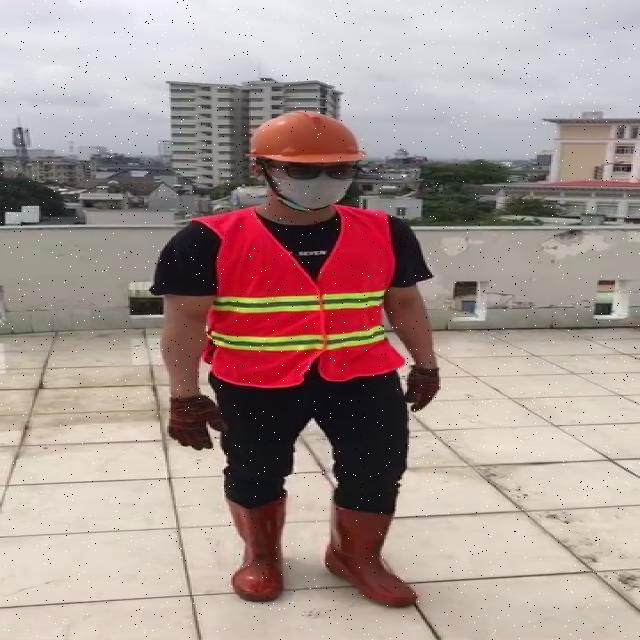Hard_hat: (240, 110, 369, 176)
Person: (146, 100, 457, 637)
Vest: (208, 206, 396, 391)
